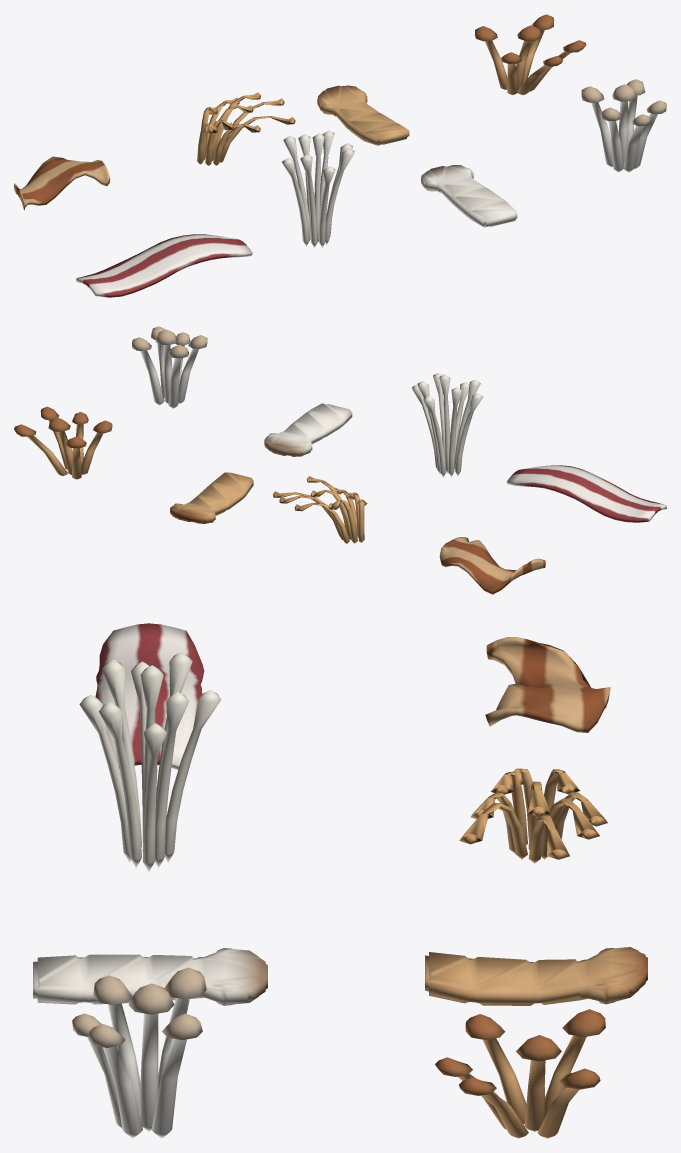
File: Phase2_MeatMushrooms_P1.glb
3 views of the same model, one above another, from view 1: azimuth 30°, elevation 25°; view 2: azimuth 150°, elevation 25°; view 3: azimuth 270°, elevation 25° (orthographic). The views are drawn at different scales.
Visible parts, largest first — view 1: PorkBellySlice_Raw, Enoki_Raw, WhiteBeech_Raw, WhiteBeech_Cooked, KingOyster_Raw, KingOyster_Cooked, Enoki_Cooked, PorkBellySlice_Cooked; view 2: PorkBellySlice_Raw, Enoki_Raw, WhiteBeech_Raw, WhiteBeech_Cooked, PorkBellySlice_Cooked, KingOyster_Raw, KingOyster_Cooked, Enoki_Cooked; view 3: Enoki_Raw, WhiteBeech_Raw, KingOyster_Cooked, WhiteBeech_Cooked, KingOyster_Raw, PorkBellySlice_Cooked, Enoki_Cooked, PorkBellySlice_Raw.
Boxes of the visible parts, x1,y1,x2,y2 form: PorkBellySlice_Raw: [76, 234, 252, 297]; Enoki_Raw: [282, 130, 354, 248]; WhiteBeech_Raw: [581, 79, 666, 172]; WhiteBeech_Cooked: [474, 14, 586, 95]; KingOyster_Raw: [421, 165, 517, 227]; KingOyster_Cooked: [317, 85, 409, 145]; Enoki_Cooked: [197, 92, 295, 165]; PorkBellySlice_Cooked: [14, 156, 110, 210]; PorkBellySlice_Raw: [506, 465, 666, 522]; Enoki_Raw: [412, 372, 483, 477]; WhiteBeech_Raw: [132, 326, 207, 408]; WhiteBeech_Cooked: [14, 406, 112, 479]; PorkBellySlice_Cooked: [439, 537, 545, 594]; KingOyster_Raw: [264, 403, 352, 456]; KingOyster_Cooked: [170, 472, 253, 523]; Enoki_Cooked: [272, 476, 367, 543]; Enoki_Raw: [79, 652, 221, 871]; WhiteBeech_Raw: [72, 967, 206, 1138]; KingOyster_Cooked: [425, 947, 647, 1005]; WhiteBeech_Cooked: [435, 1009, 605, 1138]; KingOyster_Raw: [33, 948, 267, 1005]; PorkBellySlice_Cooked: [485, 637, 610, 732]; Enoki_Cooked: [459, 768, 607, 863]; PorkBellySlice_Raw: [95, 623, 204, 769].
Bounding box in the file's own units: 0.3849 × 0.0688 × 0.1911.
Materials: 8 (8 with a texture image).
